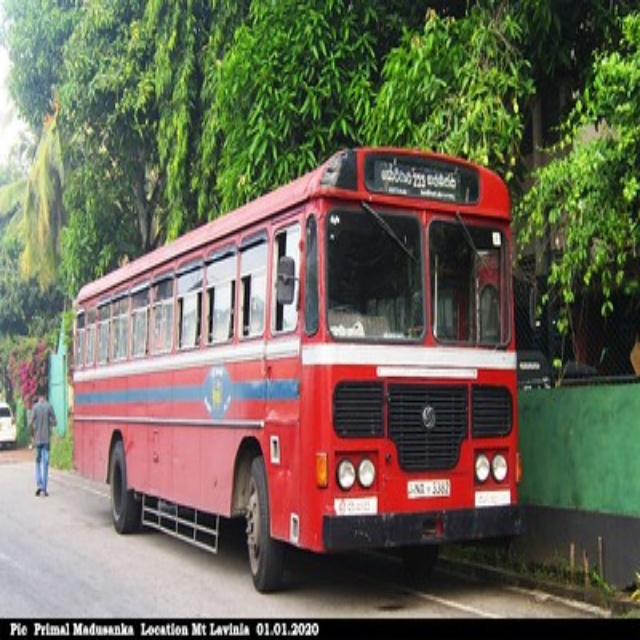Bus: (69, 144, 522, 592)
